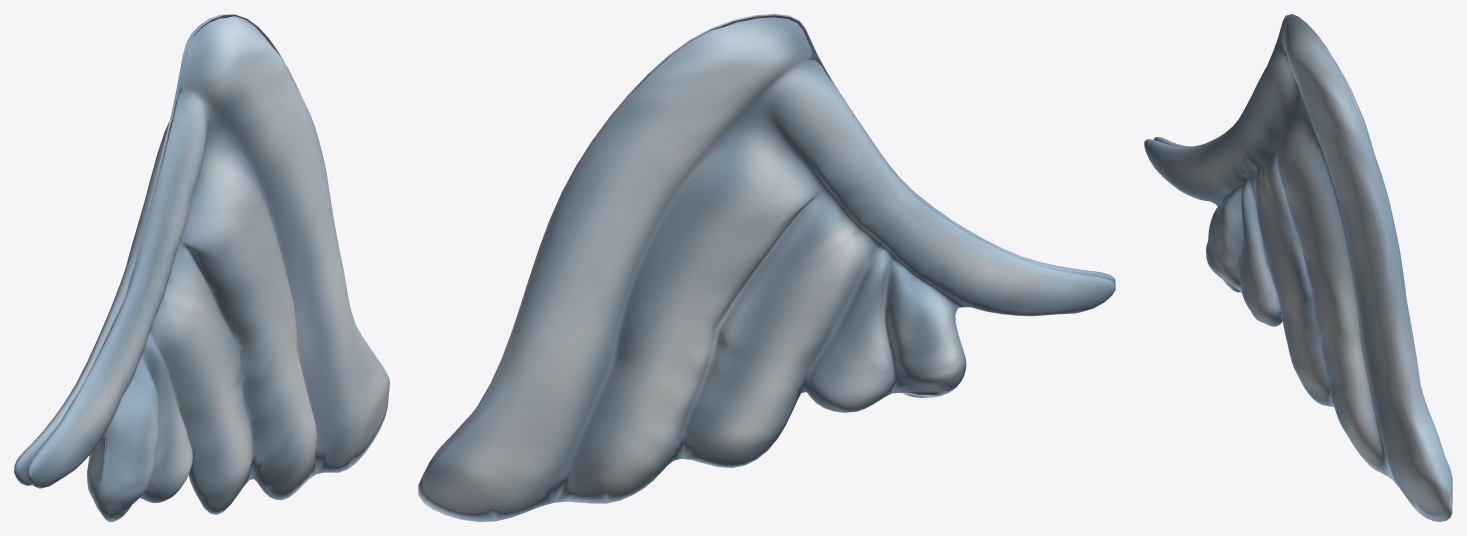
The model's file is AD_Angel_Wing_Left.fbx.
The picture shows the model from 3 angles, left to right: view 1: azimuth 30°, elevation 25°; view 2: azimuth 150°, elevation 25°; view 3: azimuth 270°, elevation 25°; orthographic projection. The views are drawn at different scales.
Visible parts, largest first — view 1: A_WingsLeft; view 2: A_WingsLeft; view 3: A_WingsLeft.
Boxes of the visible parts, left/top/right/bottom form: A_WingsLeft: left=14, top=14, right=389, bottom=521; A_WingsLeft: left=418, top=14, right=1115, bottom=521; A_WingsLeft: left=1144, top=14, right=1452, bottom=521.
Bounding box in the file's own units: 138 × 129 × 86.93.
